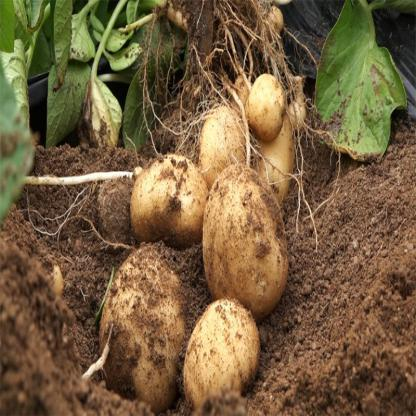potato: (83, 240, 204, 416), (195, 160, 294, 324), (125, 147, 217, 275), (187, 290, 266, 415), (190, 77, 250, 198), (239, 66, 286, 152)
